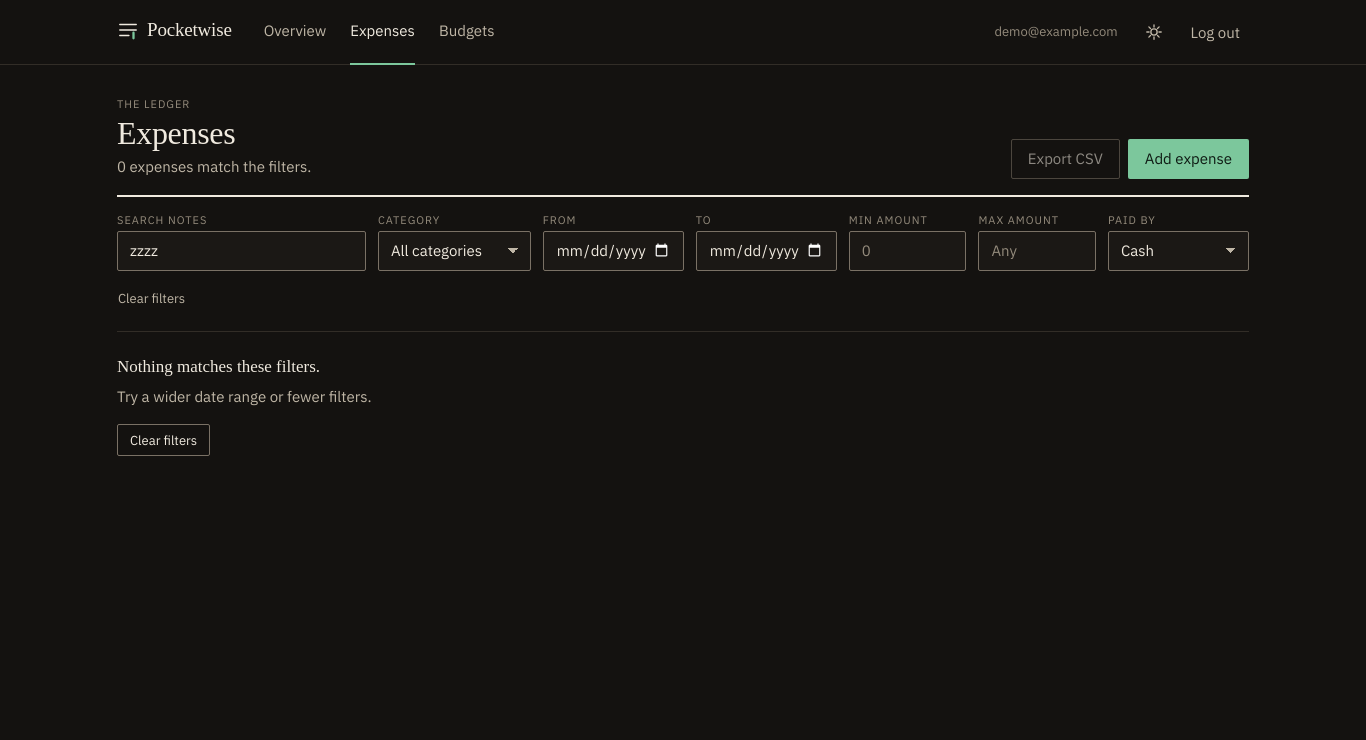
it: filters › says so when nothing matches, and can clear the filters from there
The image size is (1366, 740).
Expected: the text "Nothing matches these filters." is shown, [117, 356, 320, 378]
Expected: the button "Export CSV" is disabled, [1011, 139, 1120, 179]
Click the button "Clear filters" below "Search notes".
click(152, 299)  # box [109, 283, 194, 315]
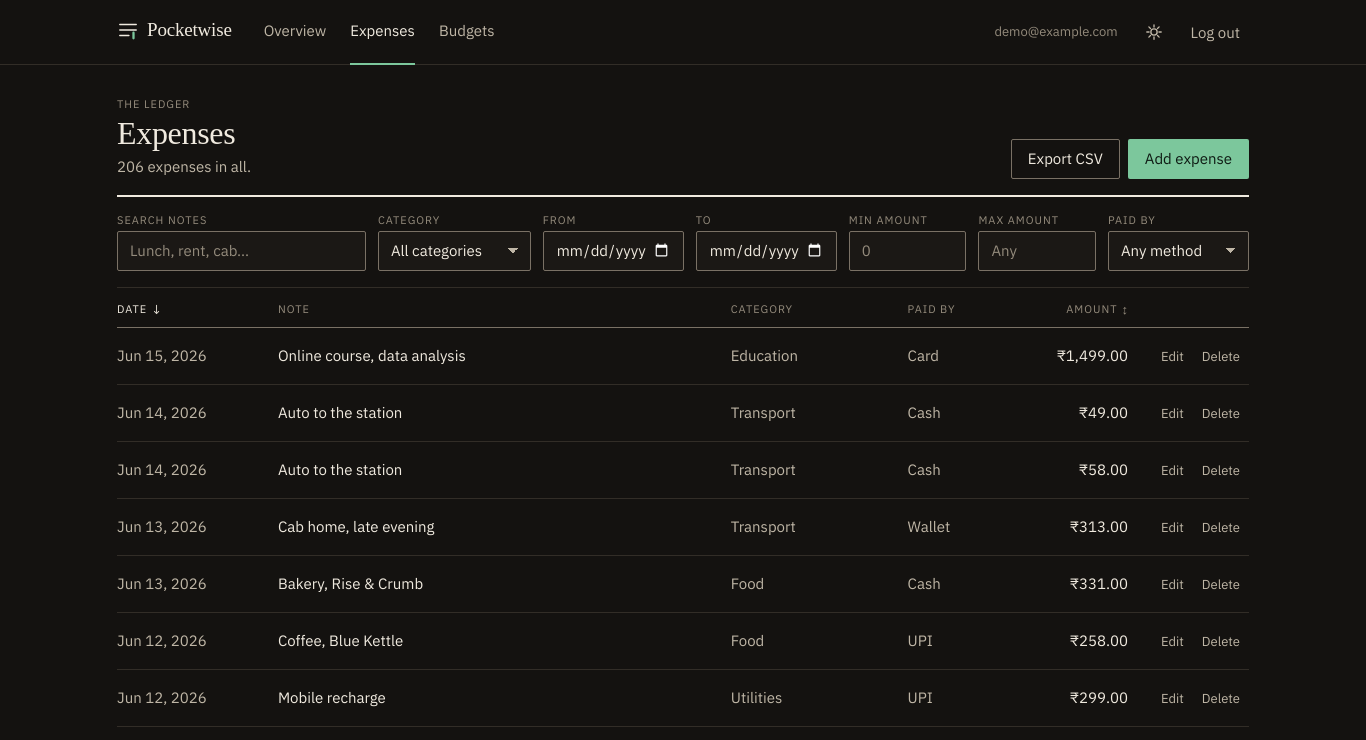
Now the search field labelled "Search notes" is empty, box [117, 231, 366, 271]
